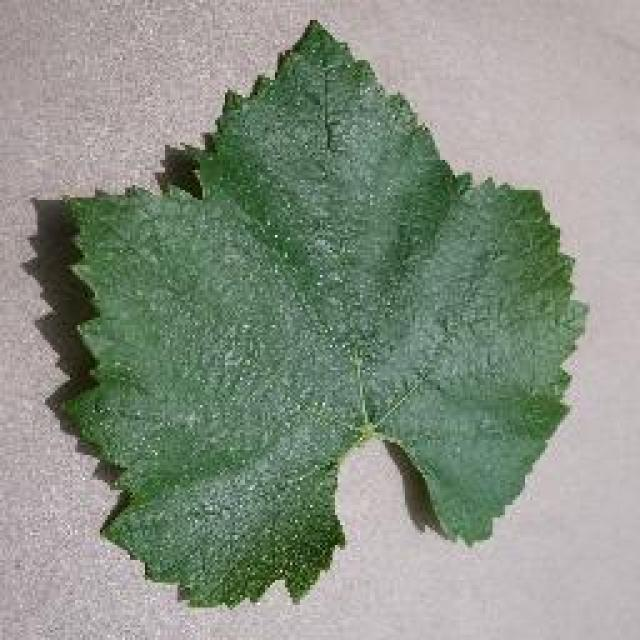Healthy: (52, 31, 599, 609)
